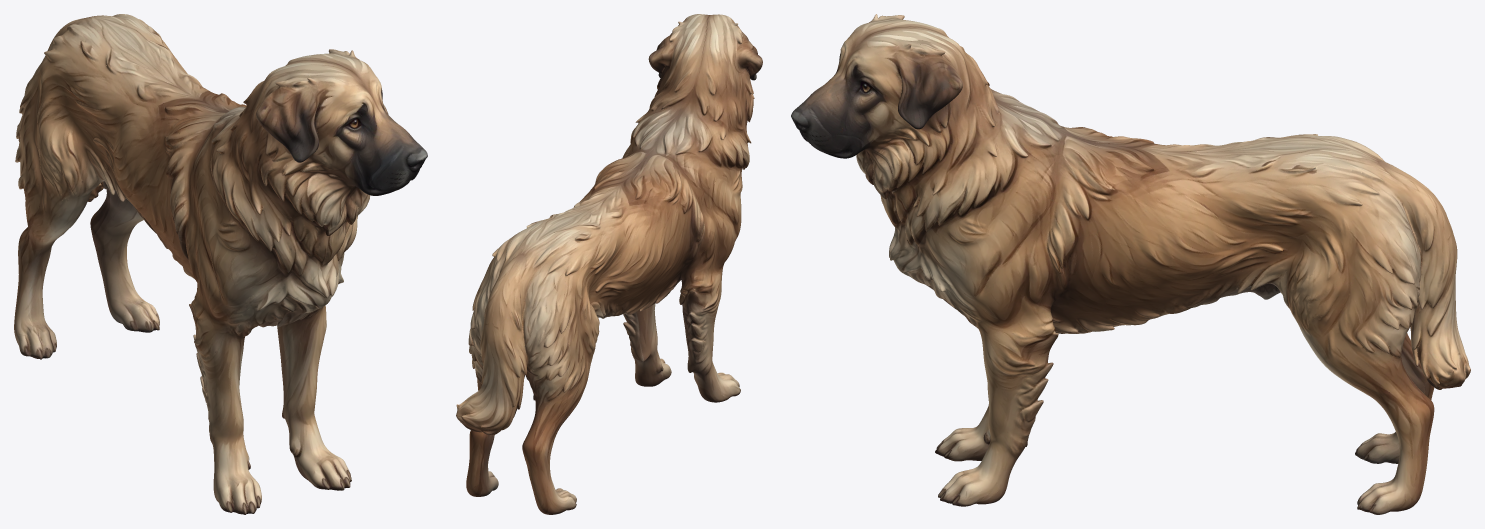
File: b019_kangal_anadolu_coban_kopegi.glb
3 renders of one model, left to right at view 1: azimuth 30°, elevation 25°; view 2: azimuth 150°, elevation 25°; view 3: azimuth 270°, elevation 25°, orthographic. The views are drawn at different scales.
Visible parts, largest first — view 1: Mesh_0; view 2: Mesh_0; view 3: Mesh_0.
Boxes of the visible parts, box(x1,y1,x2,y2) form: Mesh_0: box(14, 14, 427, 514); Mesh_0: box(456, 14, 762, 514); Mesh_0: box(791, 14, 1470, 514).
Bounding box in the file's own units: 0.4807 × 1.4 × 1.9.
Materials: 1 (1 with a texture image).
